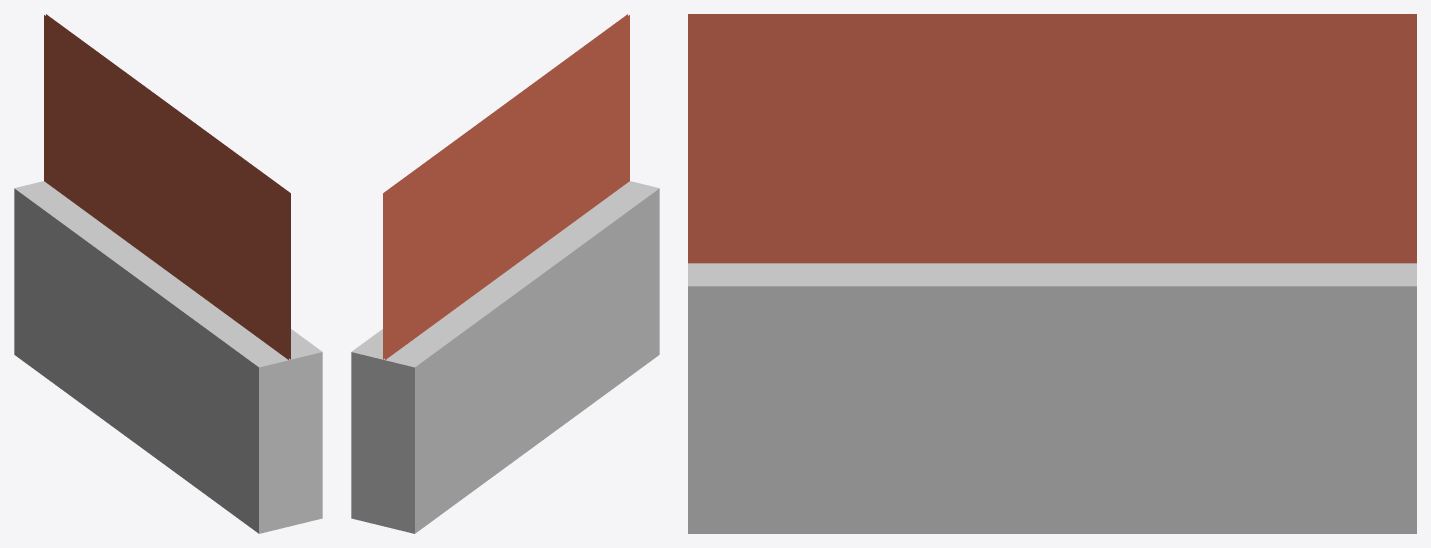
Rendered from fence.fbx.
3 renders of one model, left to right at view 1: azimuth 30°, elevation 25°; view 2: azimuth 150°, elevation 25°; view 3: azimuth 270°, elevation 25°, orthographic. The views are drawn at different scales.
Visible parts, largest first — view 1: fence; view 2: fence; view 3: fence.
Boxes of the visible parts, x1=… form: fence: x1=14, y1=14, x2=322, y2=533; fence: x1=351, y1=14, x2=659, y2=533; fence: x1=688, y1=14, x2=1416, y2=533.
Size of the model in its own units: 30 by 150 by 200.
